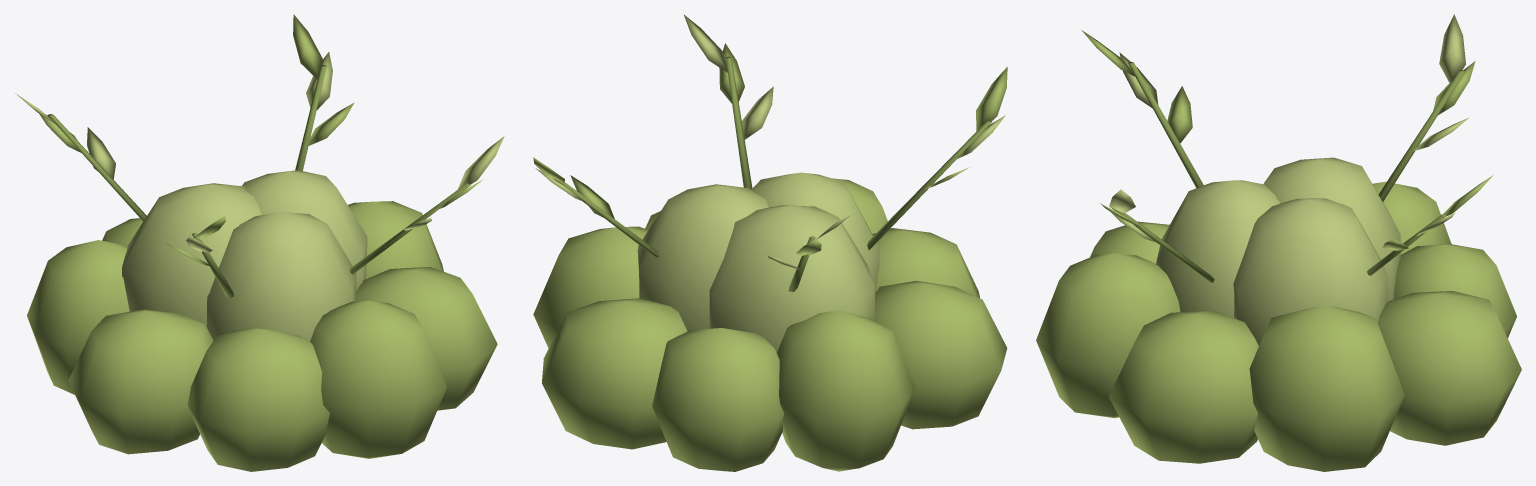
File: shrub2.glb
The picture shows the model from 3 angles, left to right: view 1: azimuth 30°, elevation 25°; view 2: azimuth 150°, elevation 25°; view 3: azimuth 270°, elevation 25°; orthographic projection. The views are drawn at different scales.
Visible parts, largest first — view 1: Foliage | scalloped leaf cluster.006, Foliage | scalloped leaf cluster.005, Foliage | scalloped leaf cluster.004, Foliage | scalloped leaf cluster.010, Foliage | scalloped leaf cluster.009, Foliage | scalloped leaf cluster.003, Foliage | scalloped leaf cluster.007, Foliage | scalloped leaf cluster.008, Foliage | scalloped leaf cluster, Foliage | folded leaf.002, Sprig | short green stem.001, Sprig | short green stem (+6 smaller); view 2: Foliage | scalloped leaf cluster.003, Foliage | scalloped leaf cluster.009, Foliage | scalloped leaf cluster.001, Foliage | scalloped leaf cluster.002, Foliage | scalloped leaf cluster.004, Foliage | scalloped leaf cluster.008, Foliage | scalloped leaf cluster, Foliage | scalloped leaf cluster.005, Foliage | scalloped leaf cluster.010, Foliage | scalloped leaf cluster.006, Sprig | short green stem.002, Sprig | short green stem.003 (+6 smaller); view 3: Foliage | scalloped leaf cluster, Foliage | scalloped leaf cluster.007, Foliage | scalloped leaf cluster.001, Foliage | scalloped leaf cluster.008, Foliage | scalloped leaf cluster.006, Foliage | scalloped leaf cluster.010, Foliage | scalloped leaf cluster.009, Foliage | scalloped leaf cluster.002, Foliage | scalloped leaf cluster.003, Foliage | scalloped leaf cluster.005, Foliage | folded leaf.005, Sprig | short green stem.001 (+5 smaller).
Part boxes in pixels (bbox=[...]): Foliage | scalloped leaf cluster.006: bbox=[310, 300, 446, 458]; Foliage | scalloped leaf cluster.005: bbox=[188, 327, 329, 471]; Foliage | scalloped leaf cluster.004: bbox=[68, 309, 213, 454]; Foliage | scalloped leaf cluster.010: bbox=[206, 211, 356, 340]; Foliage | scalloped leaf cluster.009: bbox=[122, 183, 261, 326]; Foliage | scalloped leaf cluster.003: bbox=[27, 240, 129, 394]; Foliage | scalloped leaf cluster.007: bbox=[355, 266, 497, 410]; Foliage | scalloped leaf cluster.008: bbox=[242, 170, 367, 291]; Foliage | scalloped leaf cluster: bbox=[348, 201, 443, 278]; Foliage | folded leaf.002: bbox=[293, 14, 322, 80]; Sprig | short green stem.001: bbox=[48, 114, 146, 221]; Sprig | short green stem: bbox=[295, 65, 326, 170]; Foliage | scalloped leaf cluster.003: bbox=[777, 310, 915, 471]; Foliage | scalloped leaf cluster.009: bbox=[709, 205, 874, 352]; Foliage | scalloped leaf cluster.001: bbox=[542, 298, 687, 449]; Foliage | scalloped leaf cluster.002: bbox=[652, 328, 784, 471]; Foliage | scalloped leaf cluster.004: bbox=[874, 280, 1007, 429]; Foliage | scalloped leaf cluster.008: bbox=[637, 184, 768, 330]; Foliage | scalloped leaf cluster: bbox=[533, 226, 648, 348]; Foliage | scalloped leaf cluster.005: bbox=[872, 228, 980, 298]; Foliage | scalloped leaf cluster.010: bbox=[751, 172, 879, 292]; Foliage | scalloped leaf cluster.006: bbox=[832, 178, 887, 233]; Sprig | short green stem.002: bbox=[867, 120, 992, 249]; Sprig | short green stem.003: bbox=[725, 56, 752, 189]; Foliage | scalloped leaf cluster: bbox=[1249, 306, 1404, 471]; Foliage | scalloped leaf cluster.007: bbox=[1109, 310, 1258, 463]; Foliage | scalloped leaf cluster.001: bbox=[1378, 291, 1521, 445]; Foliage | scalloped leaf cluster.008: bbox=[1233, 198, 1388, 345]; Foliage | scalloped leaf cluster.006: bbox=[1036, 253, 1180, 418]; Foliage | scalloped leaf cluster.010: bbox=[1156, 180, 1279, 317]; Foliage | scalloped leaf cluster.009: bbox=[1263, 157, 1400, 301]; Foliage | scalloped leaf cluster.002: bbox=[1393, 244, 1516, 338]; Foliage | scalloped leaf cluster.003: bbox=[1372, 181, 1451, 254]; Foliage | scalloped leaf cluster.005: bbox=[1090, 221, 1169, 263]; Foliage | folded leaf.005: bbox=[1439, 14, 1465, 84]; Sprig | short green stem.001: bbox=[1378, 70, 1465, 201].
Bounding box in the file's own units: 0.43 × 0.3 × 0.43.
